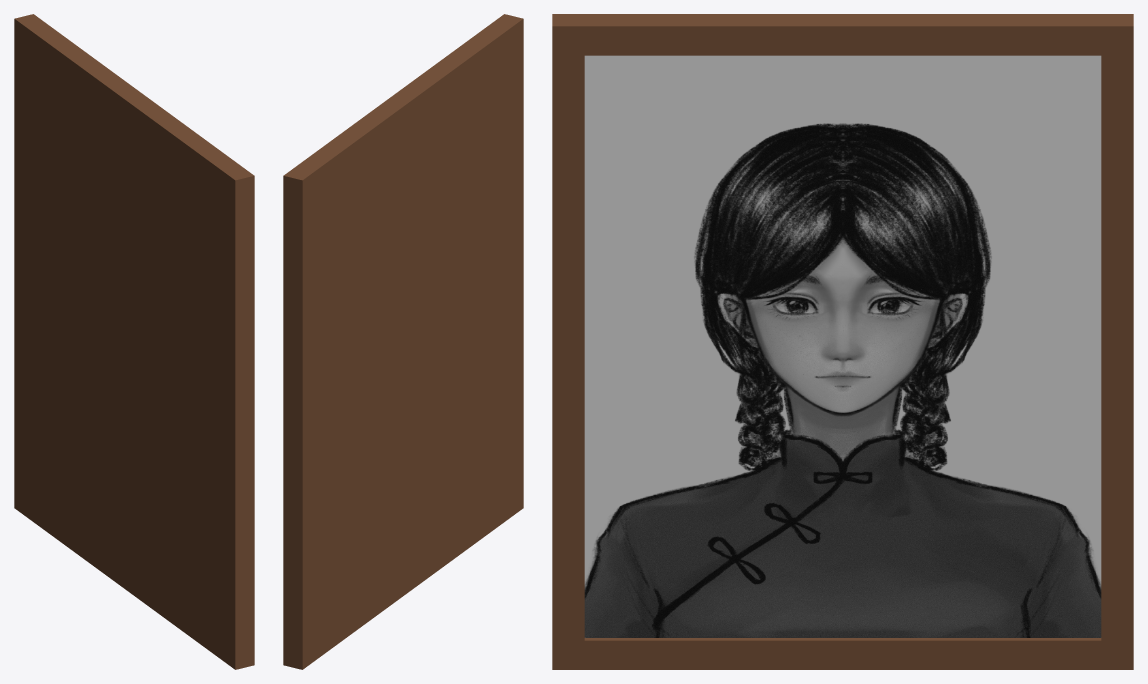
Rendered from Photo_2_0607.fbx.
3 renders of one model, left to right at view 1: azimuth 30°, elevation 25°; view 2: azimuth 150°, elevation 25°; view 3: azimuth 270°, elevation 25°, orthographic. The views are drawn at different scales.
Parts seen in each view (by area): view 1: Plane.001; view 2: Plane.001; view 3: Plane, Plane.001.
Boxes of the visible parts, x1,y1,x2,y2 form: Plane.001: (14,14,254,669); Plane.001: (283,14,523,669); Plane: (584,55,1101,637); Plane.001: (552,14,1133,669).
Bounding box in the file's own units: 9 × 220 × 180.
